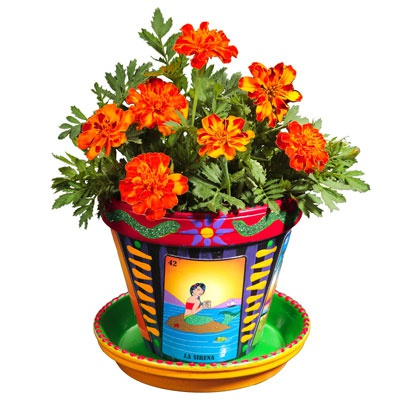flowerpot: (93, 184, 309, 391)
